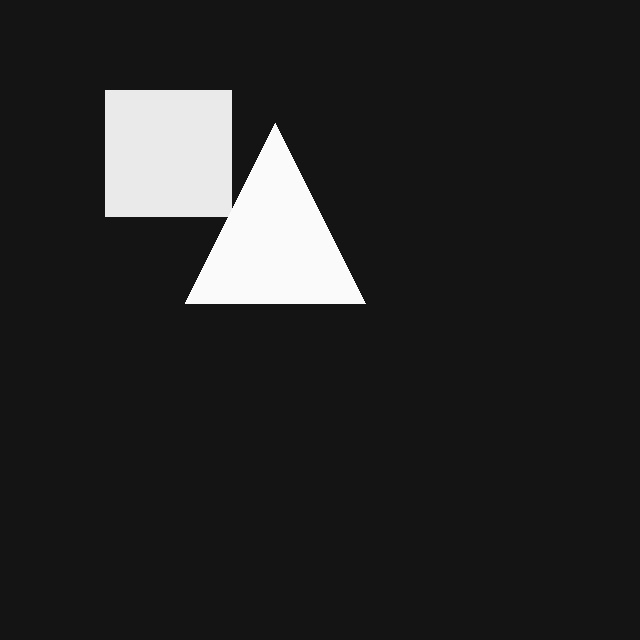square: (105, 90, 231, 216)
triangle: (185, 123, 365, 303)
